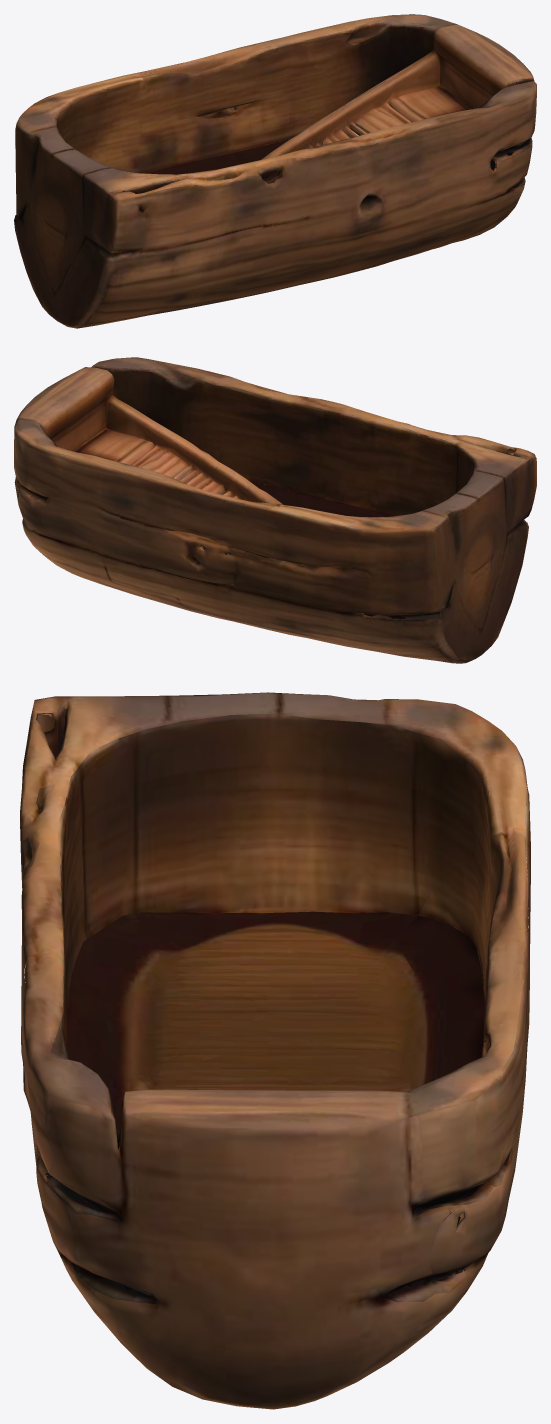
The model's file is batea.glb.
3 views of the same model, one above another, from view 1: azimuth 30°, elevation 25°; view 2: azimuth 150°, elevation 25°; view 3: azimuth 270°, elevation 25° (orthographic). The views are drawn at different scales.
Parts seen in each view (by area): view 1: geometry_0; view 2: geometry_0; view 3: geometry_0.
Part boxes in pixels (<box>): geometry_0: <box>14,14,536,328</box>; geometry_0: <box>14,357,536,663</box>; geometry_0: <box>20,692,530,1409</box>.
Bounding box in the file's own units: 1 × 0.35 × 0.5001.
1 material, 1 textured.
